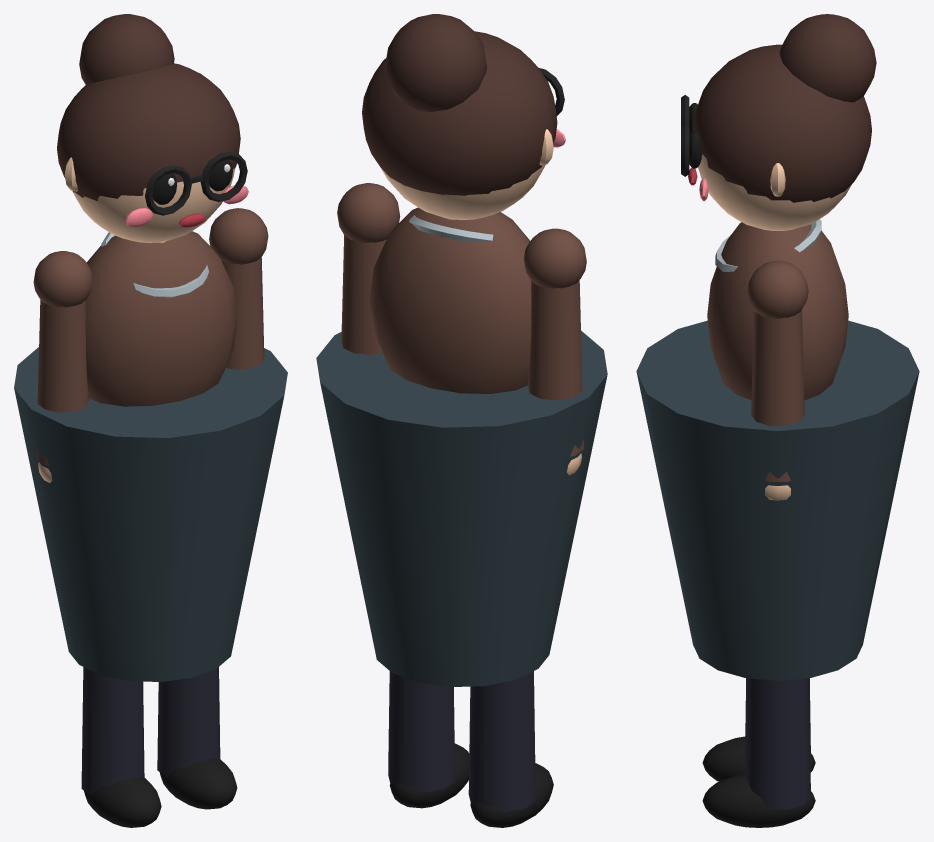
File: interiors_morah.glb
3 renders of one model, left to right at view 1: azimuth 30°, elevation 25°; view 2: azimuth 150°, elevation 25°; view 3: azimuth 270°, elevation 25°, orthographic. The views are drawn at different scales.
Parts seen in each view (by area): view 1: Body.002, Leg_R.002, Leg_L.002, Arm_R.002, Arm_L.002; view 2: Body.002, Leg_R.002, Arm_R.002, Leg_L.002, Arm_L.002; view 3: Body.002, Leg_L.002, Arm_L.002, Leg_R.002.
Part boxes in pixels (left/top/right/bottom): Body.002: left=14, top=14, right=287, bottom=681; Leg_R.002: left=81, top=667, right=161, bottom=827; Leg_L.002: left=157, top=667, right=237, bottom=809; Arm_R.002: left=33, top=251, right=92, bottom=482; Arm_L.002: left=209, top=208, right=268, bottom=369; Body.002: left=316, top=14, right=607, bottom=686; Leg_R.002: left=468, top=671, right=553, bottom=827; Arm_R.002: left=523, top=228, right=586, bottom=475; Leg_L.002: left=388, top=671, right=469, bottom=808; Arm_L.002: left=337, top=183, right=400, bottom=354; Body.002: left=636, top=14, right=919, bottom=680; Leg_L.002: left=702, top=678, right=815, bottom=827; Arm_L.002: left=747, top=260, right=808, bottom=500; Leg_R.002: left=702, top=678, right=815, bottom=781.
Bounding box in the file's own units: 0.6 × 1.84 × 0.6.
